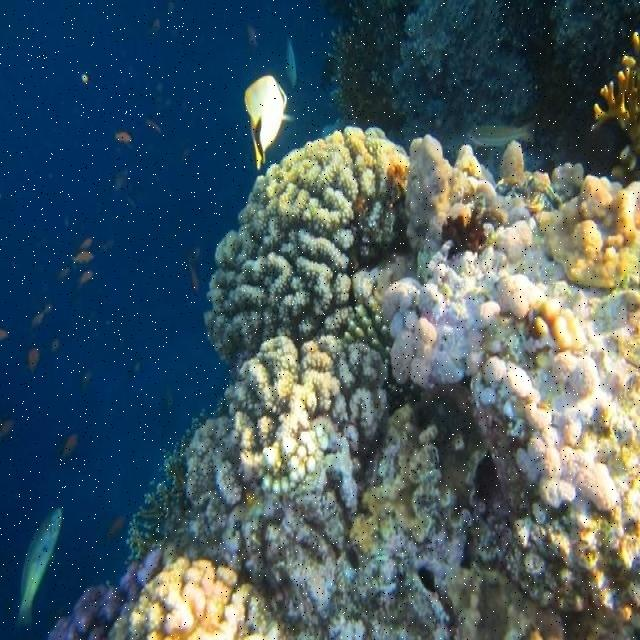fish: (17, 510, 62, 626), (244, 74, 287, 167), (469, 119, 537, 147)
reefs: (378, 135, 639, 625), (185, 128, 416, 527), (592, 33, 639, 178)
